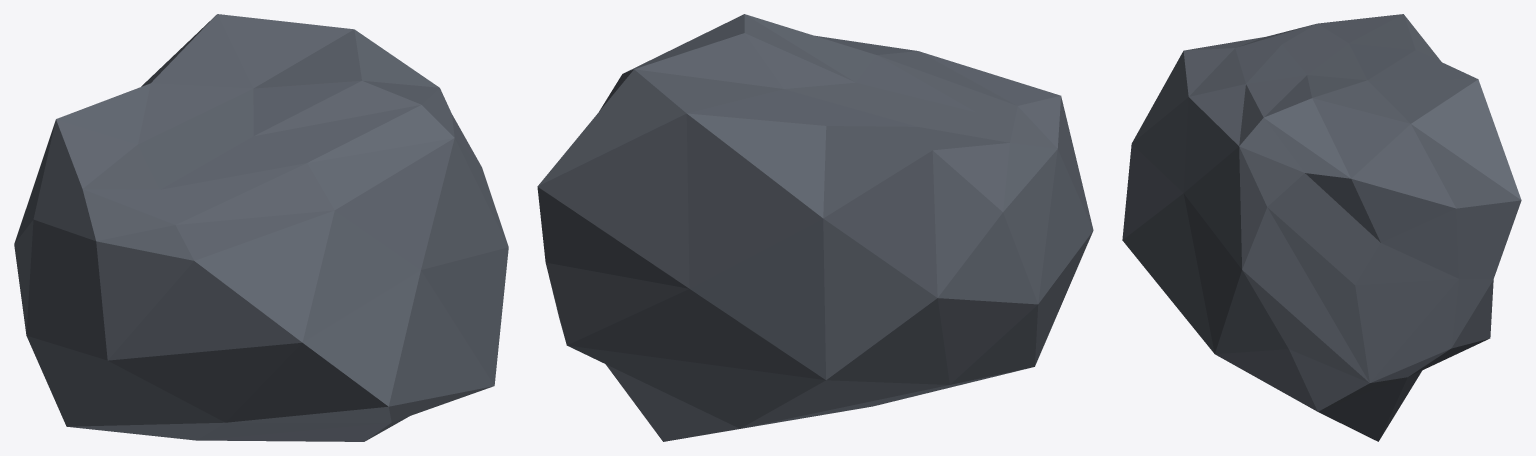
File: Rock_3.fbx
3 renders of one model, left to right at view 1: azimuth 30°, elevation 25°; view 2: azimuth 150°, elevation 25°; view 3: azimuth 270°, elevation 25°, orthographic. The views are drawn at different scales.
Visible parts, largest first — view 1: Rock_3; view 2: Rock_3; view 3: Rock_3.
Part boxes in pixels (box(x1,y1,x2,y2)): Rock_3: box(14, 14, 508, 441); Rock_3: box(537, 14, 1093, 441); Rock_3: box(1122, 14, 1521, 441).
Bounding box in the file's own units: 53.27 × 46.59 × 51.27.
